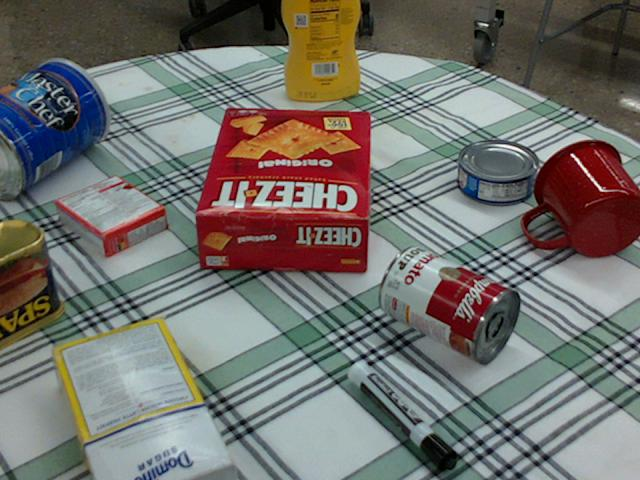cracker_box: (190, 106, 371, 273)
gelatin_box: (56, 174, 167, 257)
large_marker: (349, 361, 456, 473)
master_chef_can: (0, 58, 109, 201)
mug: (523, 139, 639, 257)
mustard_bottle: (282, 0, 360, 101)
potted_meat_can: (0, 217, 64, 347)
sugar_box: (47, 319, 233, 479)
tomato_soup_can: (378, 244, 520, 364)
tuna_fish_can: (457, 140, 539, 205)
